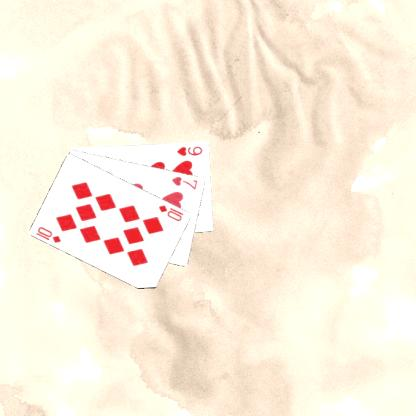10D: (156, 202, 185, 223), (33, 224, 63, 244)
7H: (169, 174, 199, 190)
9H: (174, 143, 204, 157)
